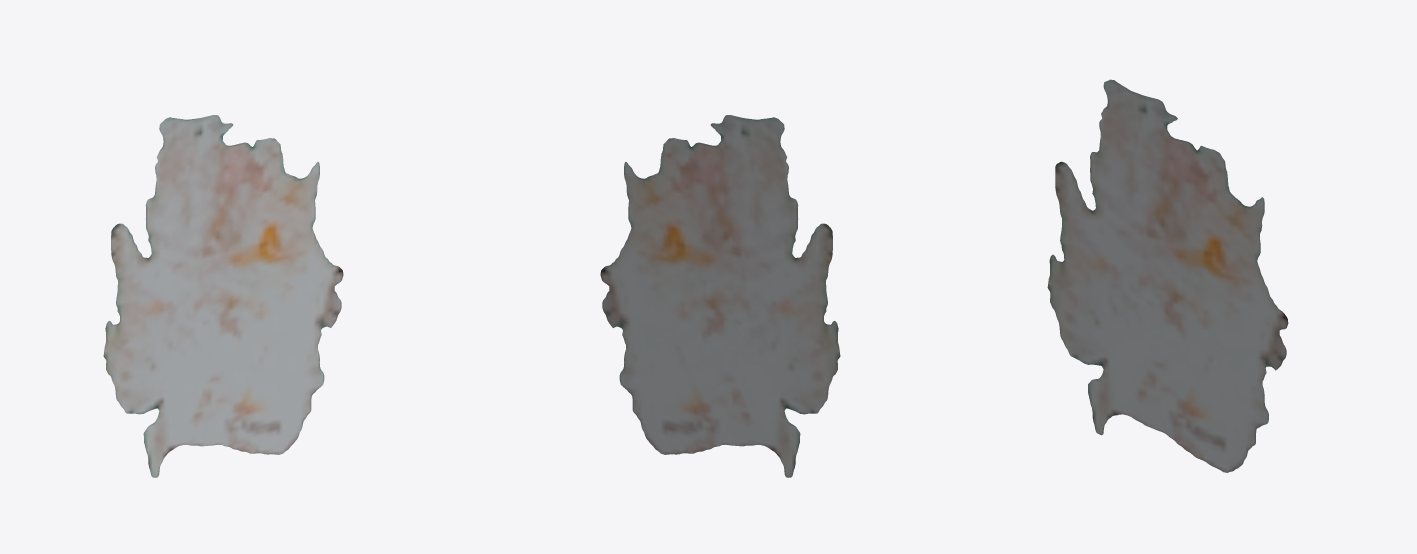
File: Sticker_16.fbx
3 renders of one model, left to right at view 1: azimuth 30°, elevation 25°; view 2: azimuth 150°, elevation 25°; view 3: azimuth 330°, elevation 25°, orthographic.
Visible parts, largest first — view 1: Sticker_16; view 2: Sticker_16; view 3: Sticker_16.
Part boxes in pixels (x1=…): Sticker_16: x1=103, y1=115, x2=343, y2=477; Sticker_16: x1=600, y1=115, x2=840, y2=477; Sticker_16: x1=1047, y1=79, x2=1288, y2=472.
Bounding box in the file's own units: 0.1994 × 0.188 × 8.22e-09.
